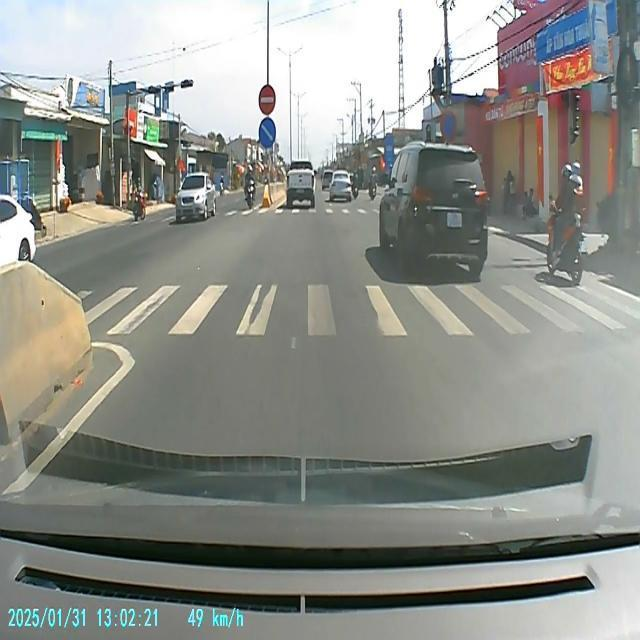102-cam-di-nguoc-chieu: (258, 83, 276, 114)
131a-cam-do-xe: (440, 108, 458, 142)
302a-huong-phai-di-vong-chuong-ngai-vat-1: (258, 117, 277, 149)
